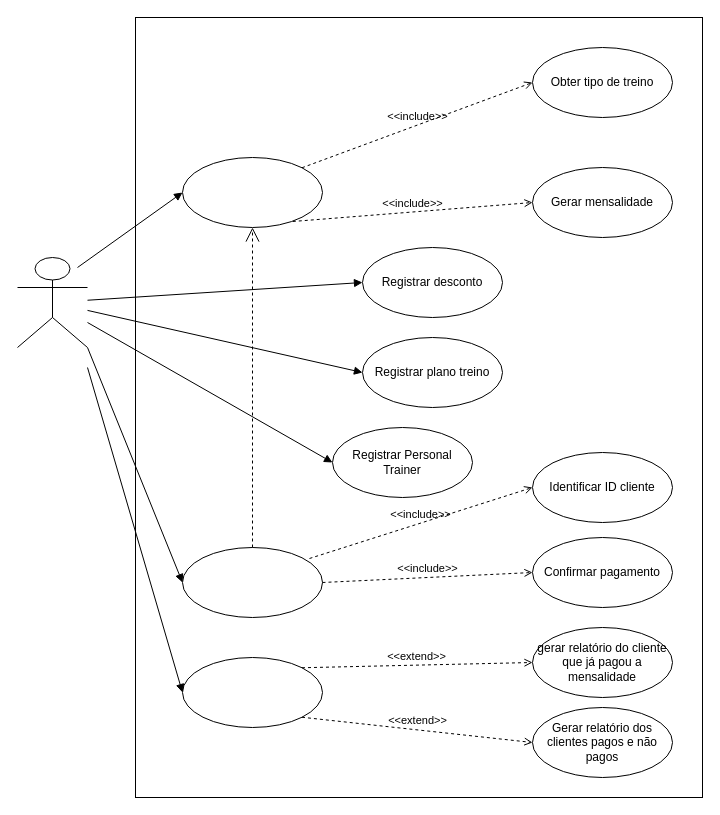
Some shapes in this 720 by 815 pixel diagram are drawn without their labels. The shapes that lost their labels are listed below. From the top down, each one's centre as x and y in pixels, then its label:
At pixel 252 192: "Registrar o cliente".
At pixel 52 302: "Funcionário".
At pixel 252 582: "Ver informações do cliente".
At pixel 252 692: "Gerar relatório".
